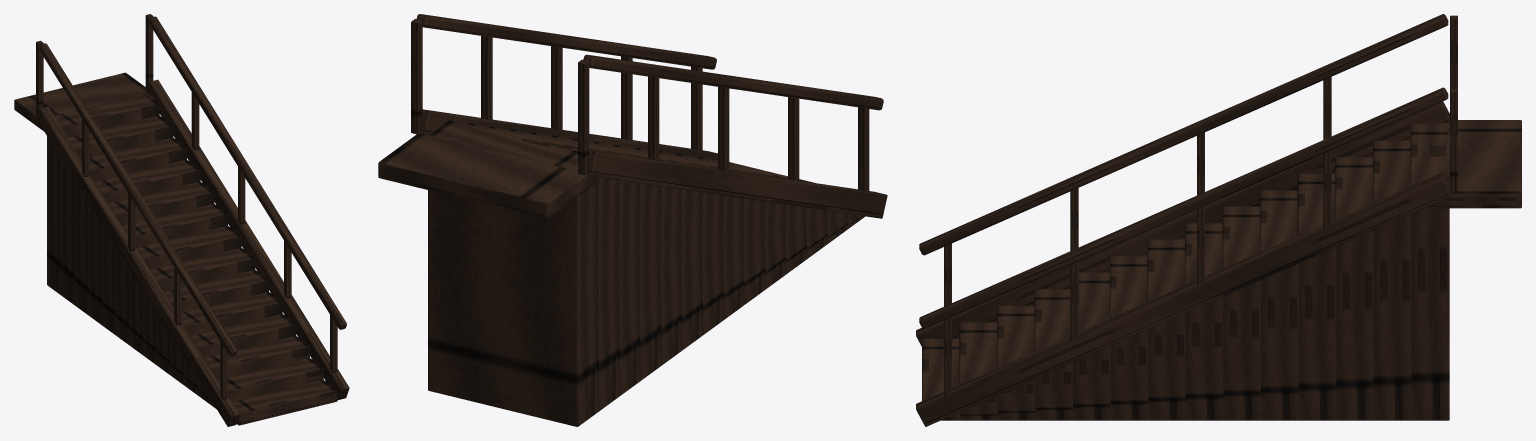
The model's file is basement-staircase.glb.
The picture shows the model from 3 angles, left to right: view 1: azimuth 30°, elevation 25°; view 2: azimuth 150°, elevation 25°; view 3: azimuth 270°, elevation 25°; orthographic projection. The views are drawn at different scales.
Parts seen in each view (by area): view 1: SM_lonely_basement_staircase_Wood_DarkStained, SM_lonely_basement_staircase_Wood_Charred; view 2: SM_lonely_basement_staircase_Wood_DarkStained, SM_lonely_basement_staircase_Wood_Charred; view 3: SM_lonely_basement_staircase_Wood_DarkStained, SM_lonely_basement_staircase_Wood_Charred.
Boxes of the visible parts, left/top/right/bottom form: SM_lonely_basement_staircase_Wood_DarkStained: left=14, top=14, right=346, bottom=425; SM_lonely_basement_staircase_Wood_Charred: left=36, top=79, right=349, bottom=426; SM_lonely_basement_staircase_Wood_DarkStained: left=378, top=14, right=883, bottom=426; SM_lonely_basement_staircase_Wood_Charred: left=420, top=109, right=887, bottom=218; SM_lonely_basement_staircase_Wood_DarkStained: left=919, top=14, right=1521, bottom=420; SM_lonely_basement_staircase_Wood_Charred: left=916, top=101, right=1451, bottom=426.
Bounding box in the file's own units: 1.86 × 3.66 × 5.98.
2 materials, 2 textured.
